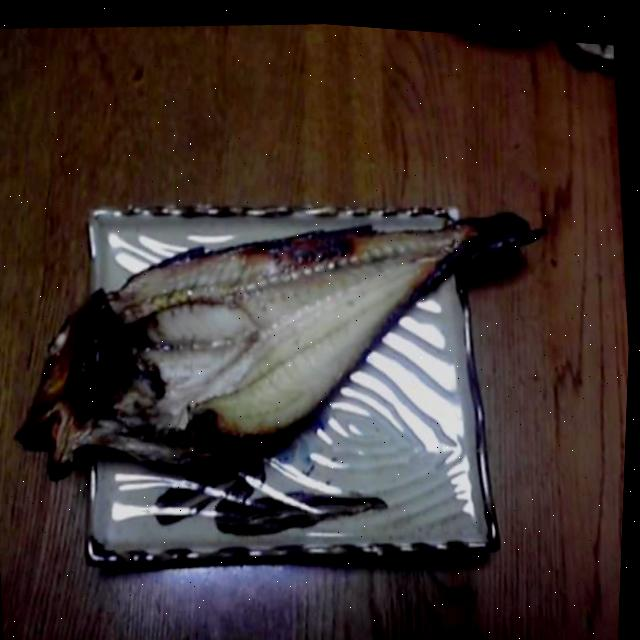熟制海鲜: (72, 6, 349, 629)
